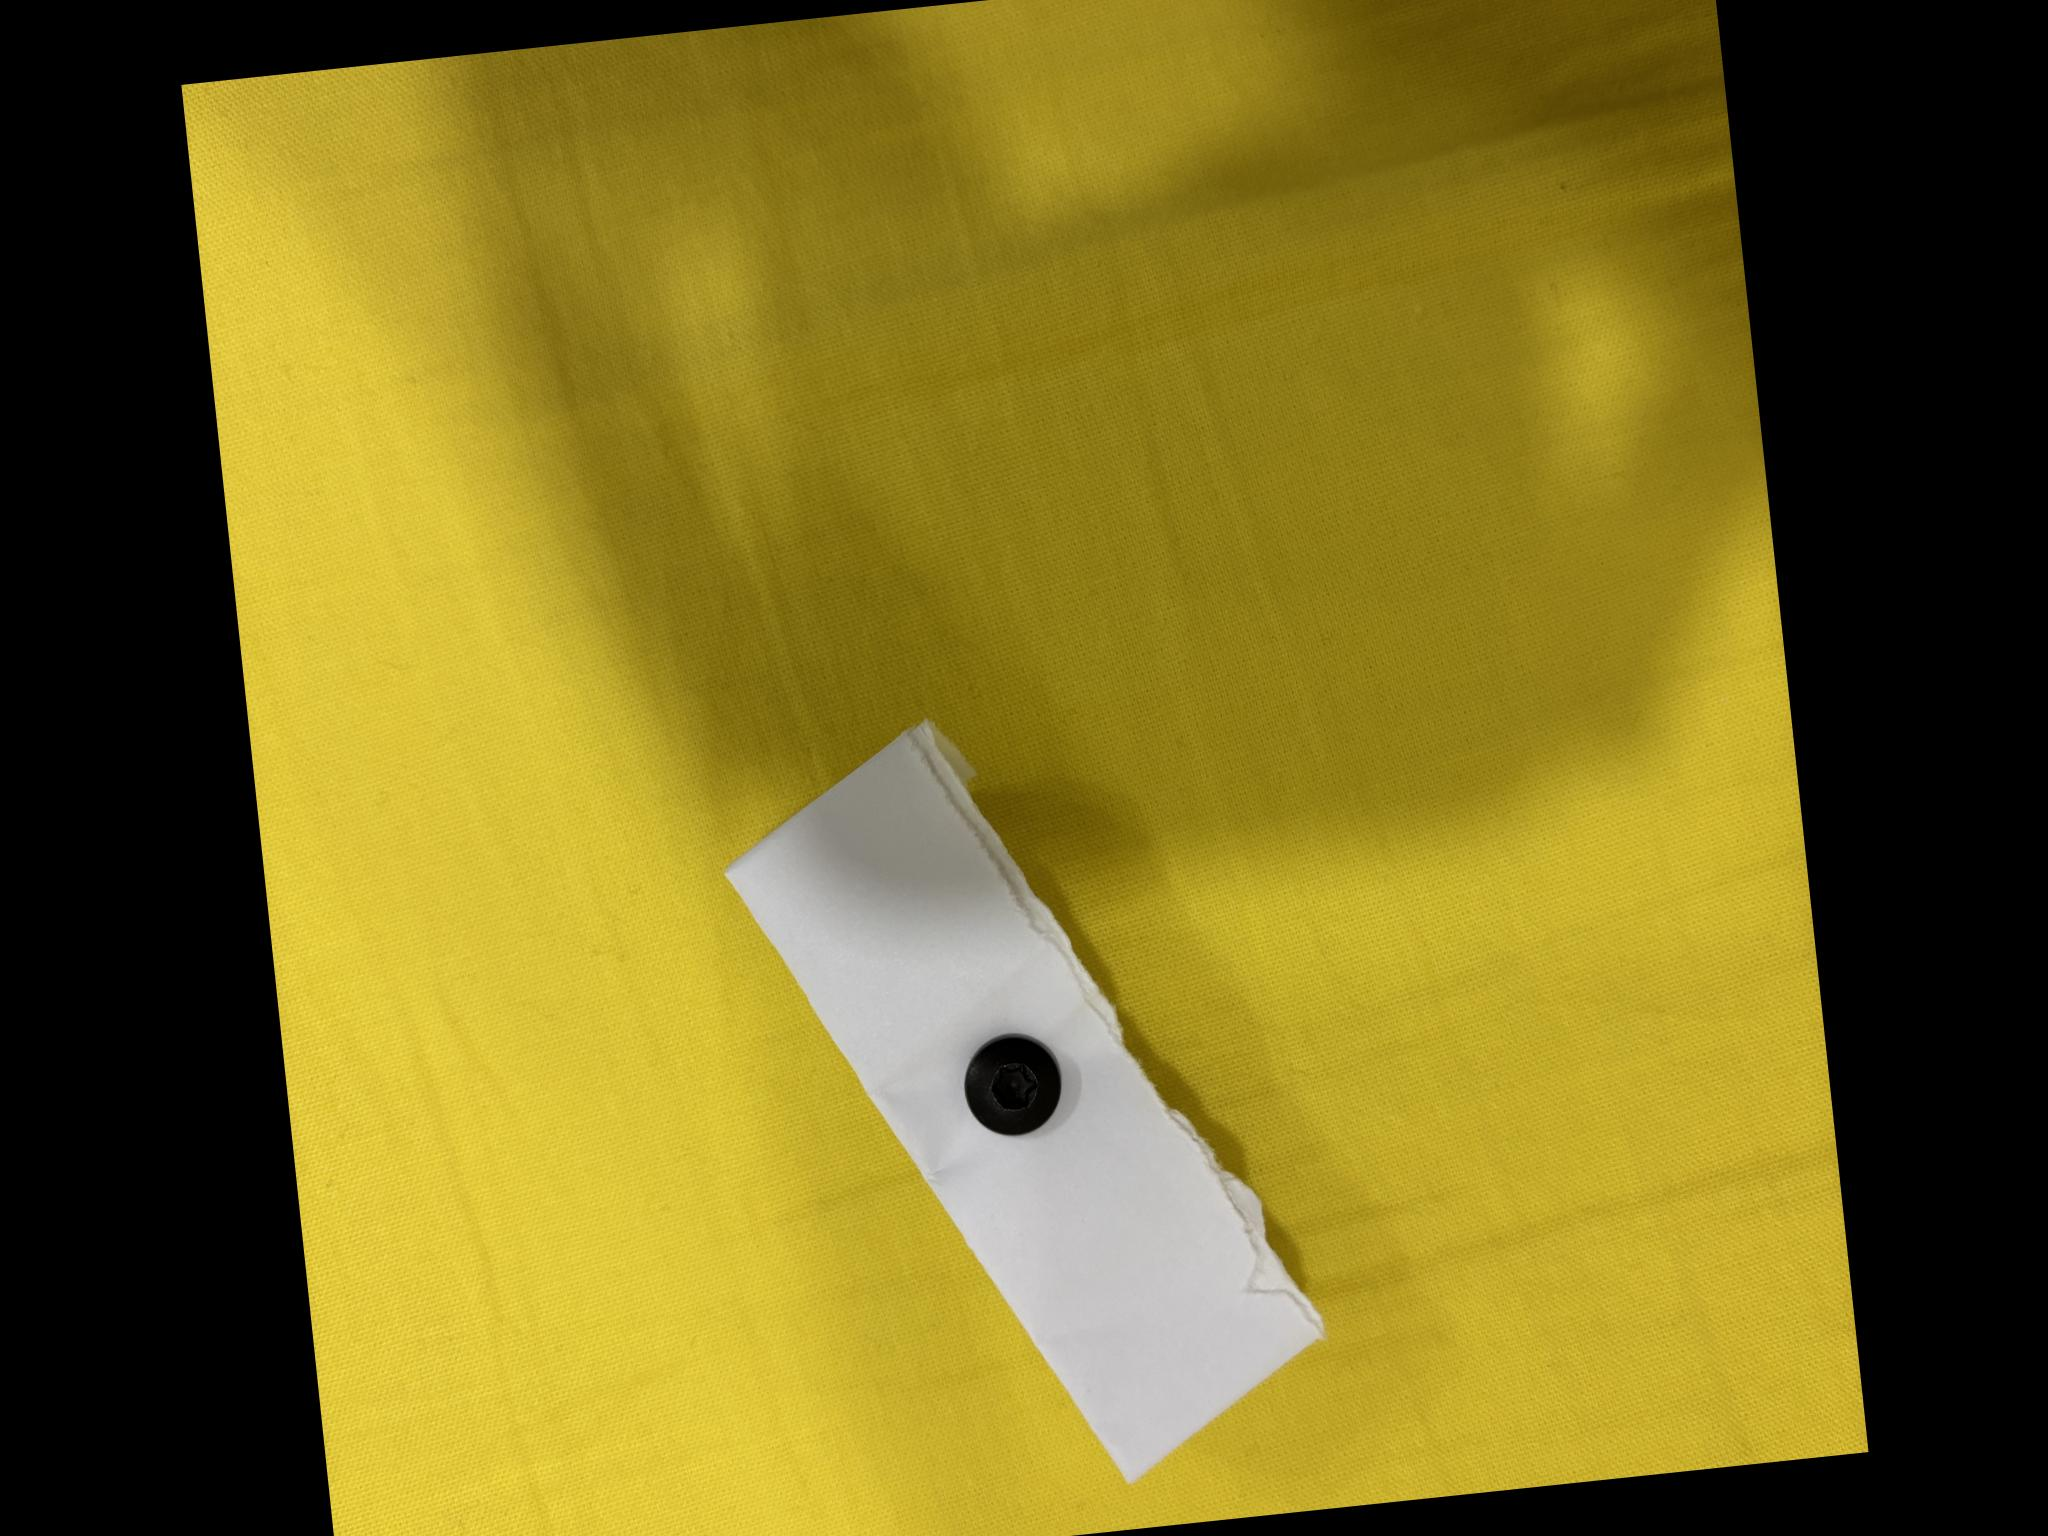T: (939, 934, 1037, 1031)
